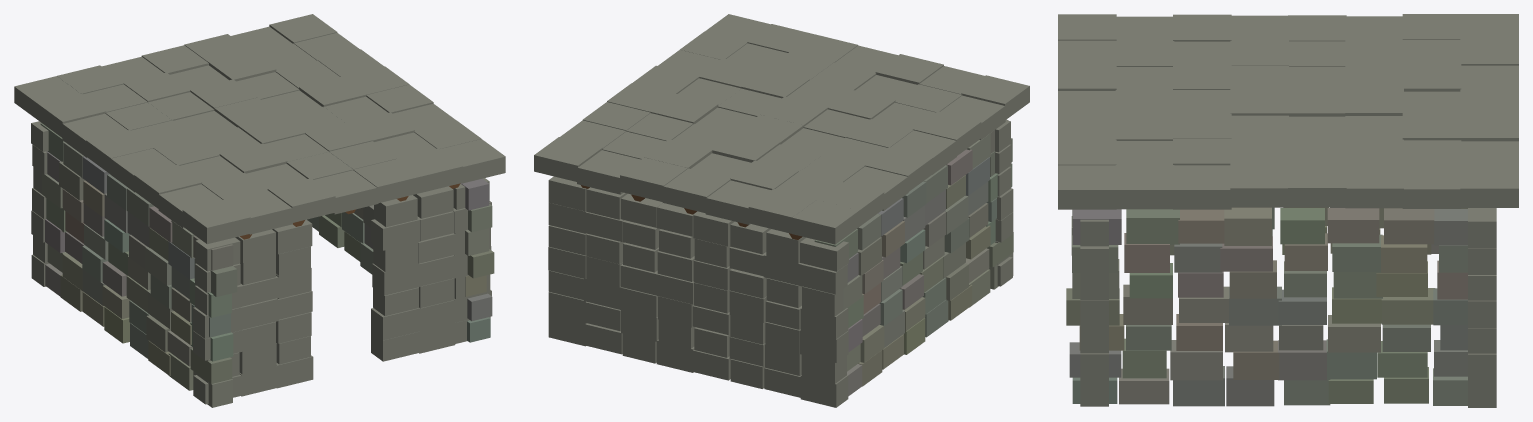
The model's file is rubble_household.glb.
3 views of the same model, side by side, from view 1: azimuth 30°, elevation 25°; view 2: azimuth 150°, elevation 25°; view 3: azimuth 270°, elevation 25° (orthographic). The views are drawn at different scales.
Parts seen in each view (by area): view 1: rubble_household; view 2: rubble_household; view 3: rubble_household.
Part boxes in pixels (left/top/right/bottom): rubble_household: left=14, top=14, right=505, bottom=407; rubble_household: left=534, top=14, right=1029, bottom=407; rubble_household: left=1058, top=14, right=1518, bottom=407.
Size of the model in its own units: 3.44 by 2.07 by 3.85.
